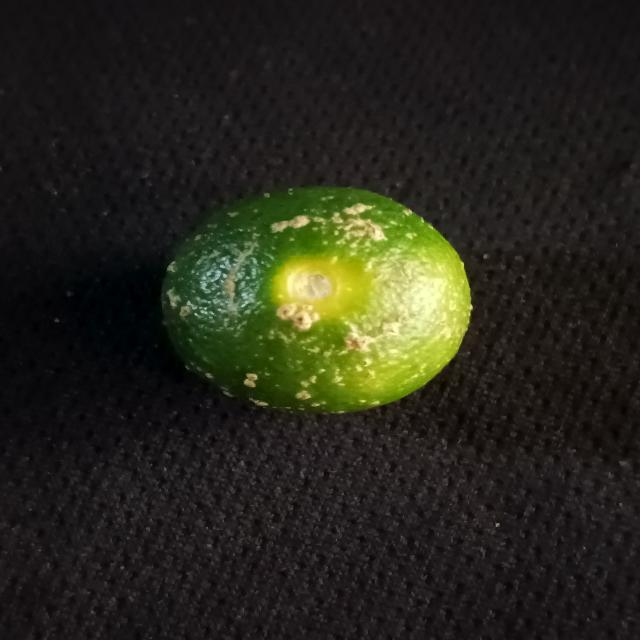scab: (153, 177, 478, 417)
